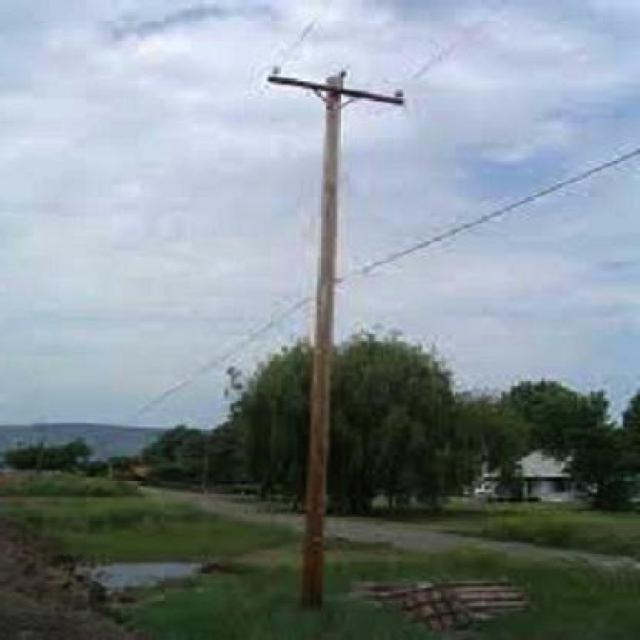crossarm: (264, 66, 405, 109)
pole: (302, 74, 346, 611)
wire: (131, 145, 640, 416)
